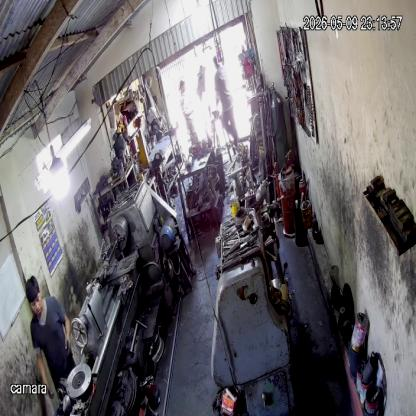sin_lentes: (30, 294, 41, 309)
